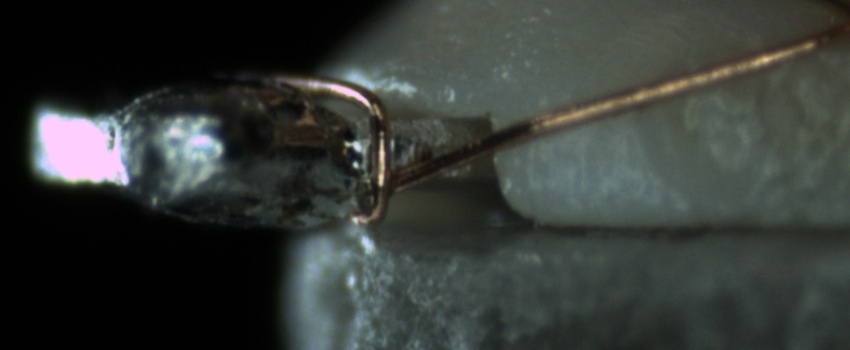TE: (265, 68, 398, 218)
